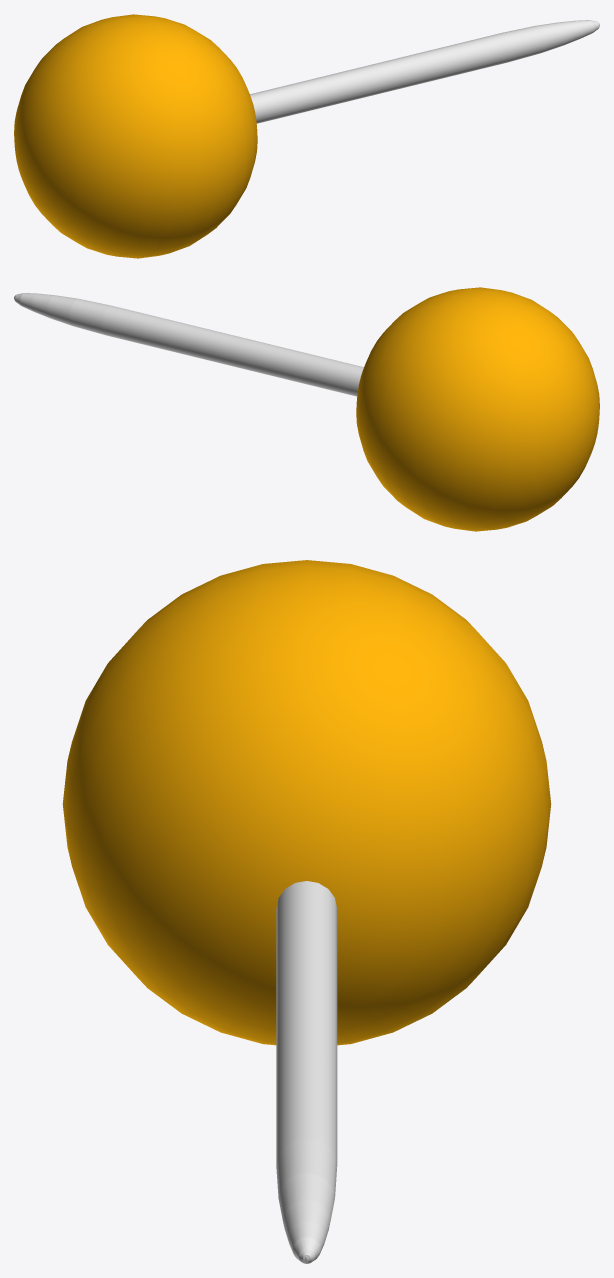
The picture shows the model from 3 angles, top to bottom: view 1: azimuth 30°, elevation 25°; view 2: azimuth 150°, elevation 25°; view 3: azimuth 270°, elevation 25°; orthographic projection. The views are drawn at different scales.
Visible parts, largest first — view 1: Line003; view 2: Line003; view 3: Line003.
Boxes of the visible parts, <box> form: Line003: <box>14,14,599,258</box>; Line003: <box>14,287,599,531</box>; Line003: <box>62,560,551,1263</box>.
Size of the model in its own units: 0.0274 by 0.0102 by 0.0102.
